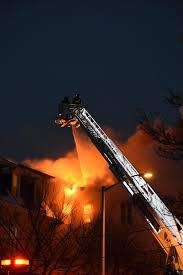fire: (42, 144, 106, 219)
